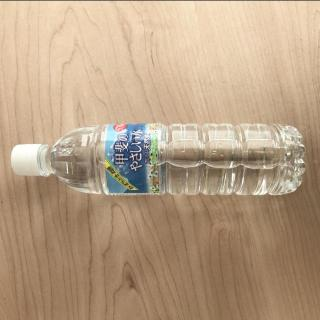Anorganik: (9, 120, 309, 196)
